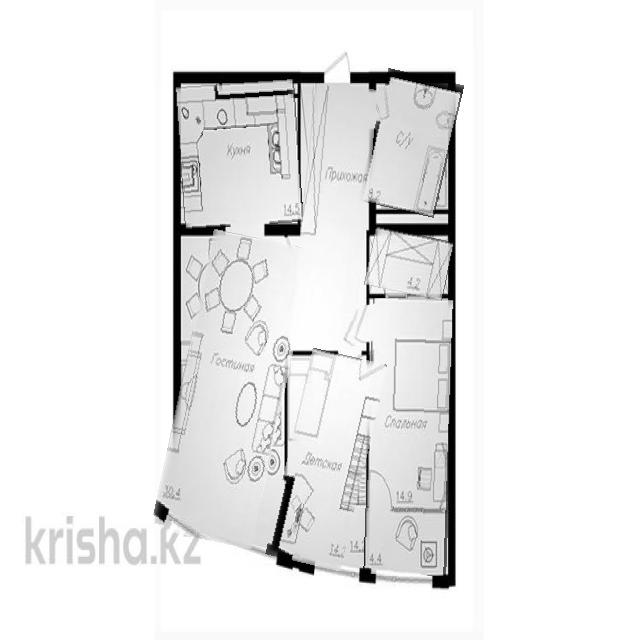bathroom: (365, 72, 457, 214)
hallway: (295, 85, 372, 348)
kitchen: (178, 81, 301, 228)
living_room: (166, 233, 299, 546), (366, 299, 453, 575), (277, 351, 376, 569)
other: (366, 230, 452, 298)
